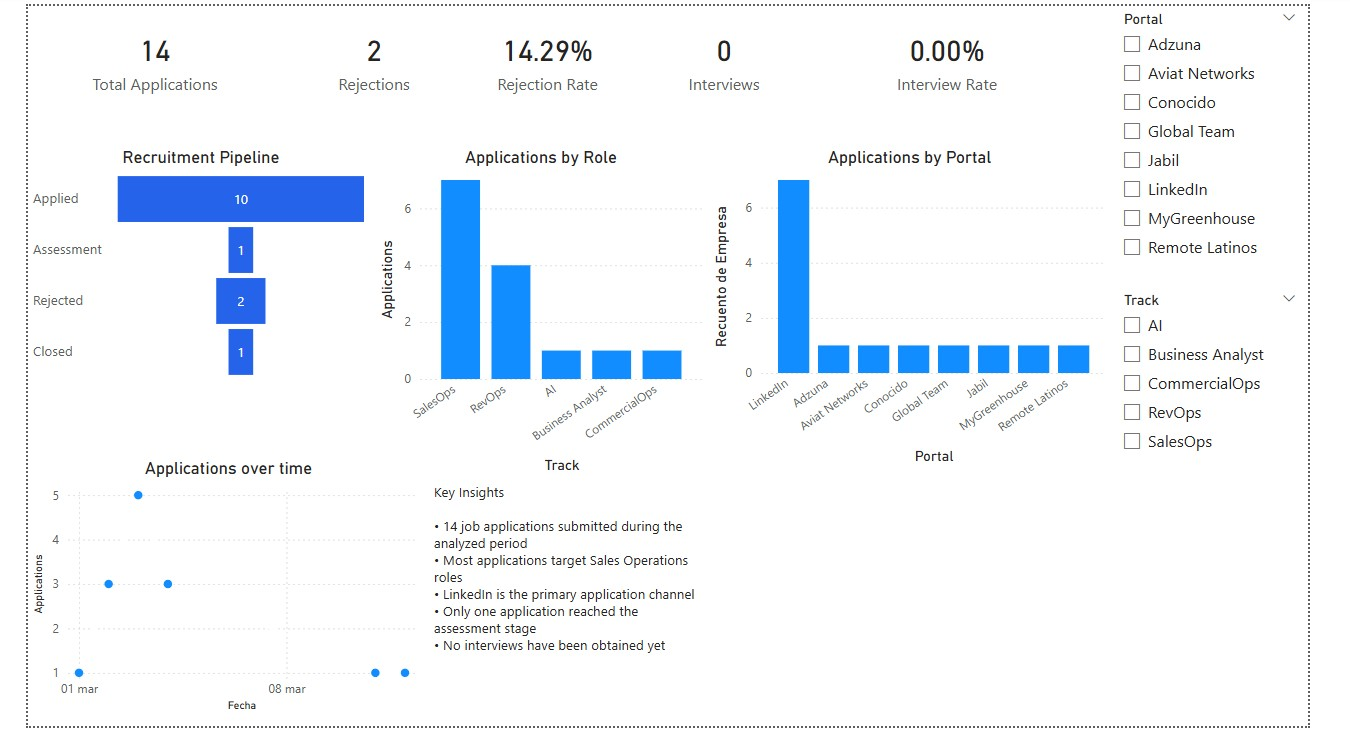

Layout of this report page (visuals, bound fields, positions):
{"tool":"powerbi","page":{"name":"Página 1","canvas":[1280,720],"ordinal":0},"visuals":[{"type":"columnChart","title":"Applications by Role","fields":{"Category":["CRM_vacantes.Track"],"Y":["CountNonNull(CRM_vacantes.Empresa)"]},"box":[346.3,141,333.6,330.7],"z":0},{"type":"card","fields":{"Values":["CRM_vacantes.Total Applications"]},"box":[0,0,253.9,106],"z":1000},{"type":"card","fields":{"Values":["CRM_vacantes.Rejections"]},"box":[253.9,0,183.8,106],"z":2000},{"type":"card","fields":{"Values":["CRM_vacantes.Rejection Rate"]},"box":[437.7,0,163.4,106],"z":3000},{"type":"slicer","fields":{"Values":["CRM_vacantes.Portal"]},"box":[1082.6,0,197.4,281.1],"z":4000},{"type":"slicer","fields":{"Values":["CRM_vacantes.Track"]},"box":[1082.6,281.1,197.4,181.9],"z":5000},{"type":"card","title":"Interviews Rate","fields":{"Values":["CRM_vacantes.Interviews"]},"box":[601.1,0,189.7,106],"z":6000},{"type":"card","fields":{"Values":["CRM_vacantes.Interview Rate"]},"box":[790.8,0,255.8,106],"z":7000},{"type":"columnChart","title":"Applications by Portal","fields":{"Category":["CRM_vacantes.Portal"],"Y":["CountNonNull(CRM_vacantes.Empresa)"]},"box":[679.9,141,402.7,321.9],"z":9000},{"type":"lineChart","title":"Applications over time","fields":{"Y":["CRM_vacantes.Total Applications"],"Category":["CRM_vacantes.Fecha"]},"box":[0,452.3,400.7,257.8],"z":10000},{"type":"funnel","title":"Recruitment Pipeline","fields":{"Category":["Dim_Etapa.Etapa"],"Y":["CountNonNull(CRM_vacantes.Empresa)"]},"box":[0,141,346.3,238.3],"z":10001},{"type":"textbox","box":[401,472,279,238],"z":10002}]}

Visuals, with their boxes in screenshot pixels (x1, y1, x2, y2), scaled from the page's 1280x720 canvas onto the 1350x742 screenshot:
"Applications by Role" columnChart: (left=365, top=145, right=717, bottom=486)
card - CRM_vacantes.Total Applications: (left=0, top=0, right=268, bottom=109)
card - CRM_vacantes.Rejections: (left=268, top=0, right=462, bottom=109)
card - CRM_vacantes.Rejection Rate: (left=462, top=0, right=634, bottom=109)
slicer - CRM_vacantes.Portal: (left=1142, top=0, right=1349, bottom=290)
slicer - CRM_vacantes.Track: (left=1142, top=290, right=1349, bottom=477)
"Interviews Rate" card: (left=634, top=0, right=834, bottom=109)
card - CRM_vacantes.Interview Rate: (left=834, top=0, right=1104, bottom=109)
"Applications by Portal" columnChart: (left=717, top=145, right=1142, bottom=477)
"Applications over time" lineChart: (left=0, top=466, right=423, bottom=732)
"Recruitment Pipeline" funnel: (left=0, top=145, right=365, bottom=391)
textbox: (left=423, top=486, right=717, bottom=732)
